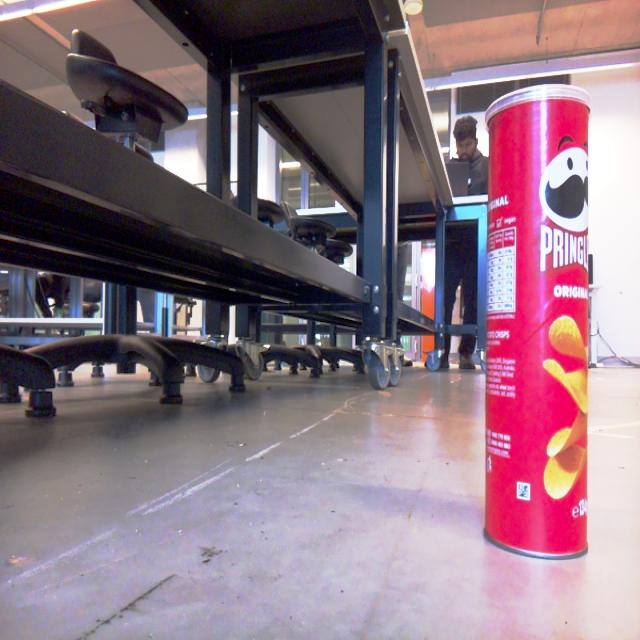redpringles: (459, 68, 620, 573)
